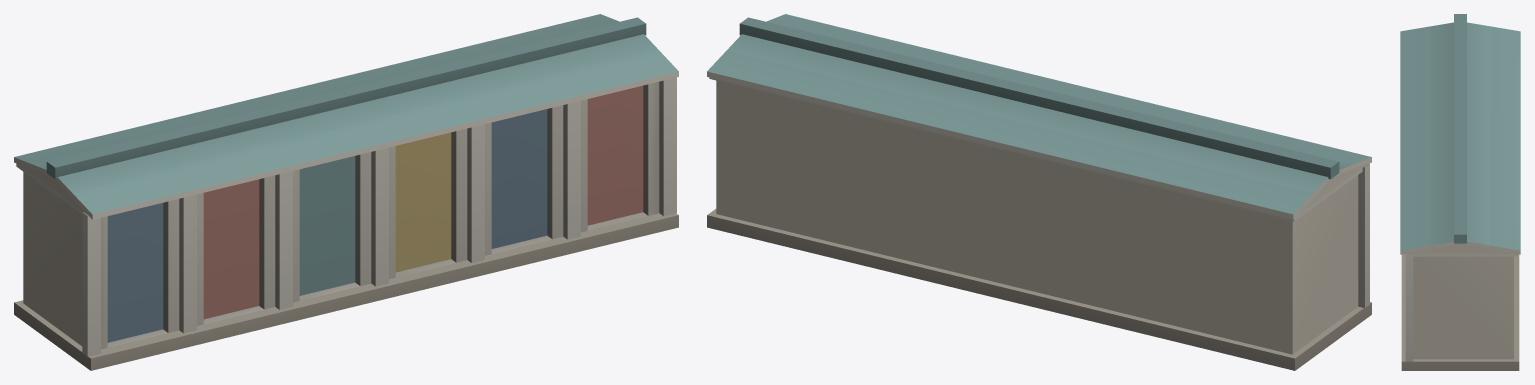
Rendered from cubicles.lod1.glb.
3 views of the same model, side by side, from view 1: azimuth 30°, elevation 25°; view 2: azimuth 150°, elevation 25°; view 3: azimuth 270°, elevation 25° (orthographic). The views are drawn at different scales.
Size of the model in its own units: 8 by 2.31 by 1.84.
